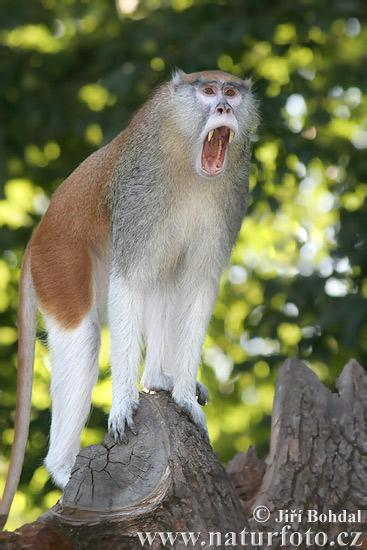monkey: (0, 70, 267, 520)
